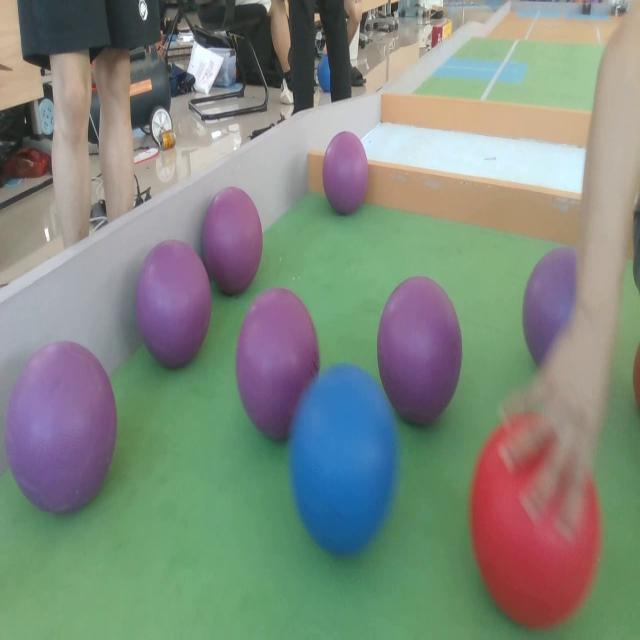blue: (291, 362, 397, 559)
invalid: (7, 336, 116, 526), (232, 285, 320, 441), (381, 272, 461, 423), (136, 238, 211, 360), (200, 187, 264, 296), (522, 249, 582, 357), (322, 133, 368, 214)
red: (471, 409, 601, 628)
